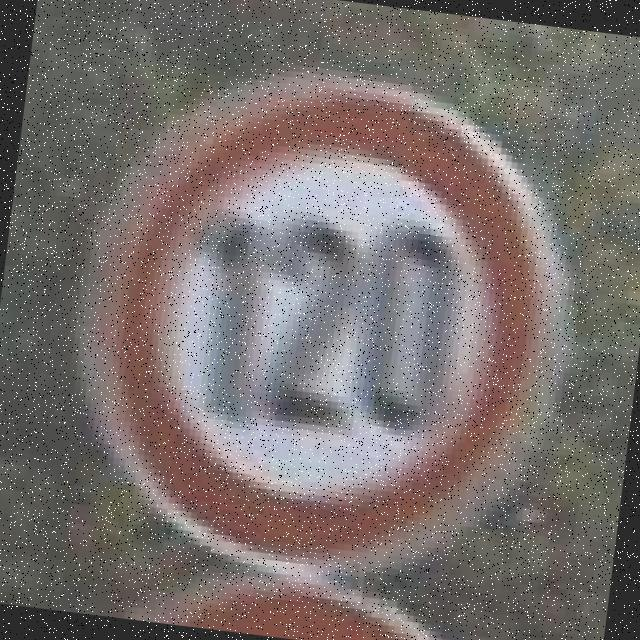Ograniczenie predkosci do 120: (29, 27, 616, 614)
